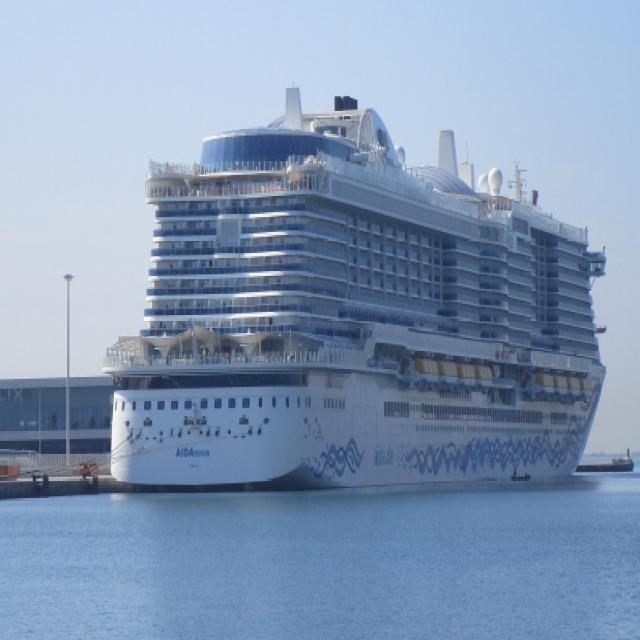cruises: (106, 78, 616, 506)
